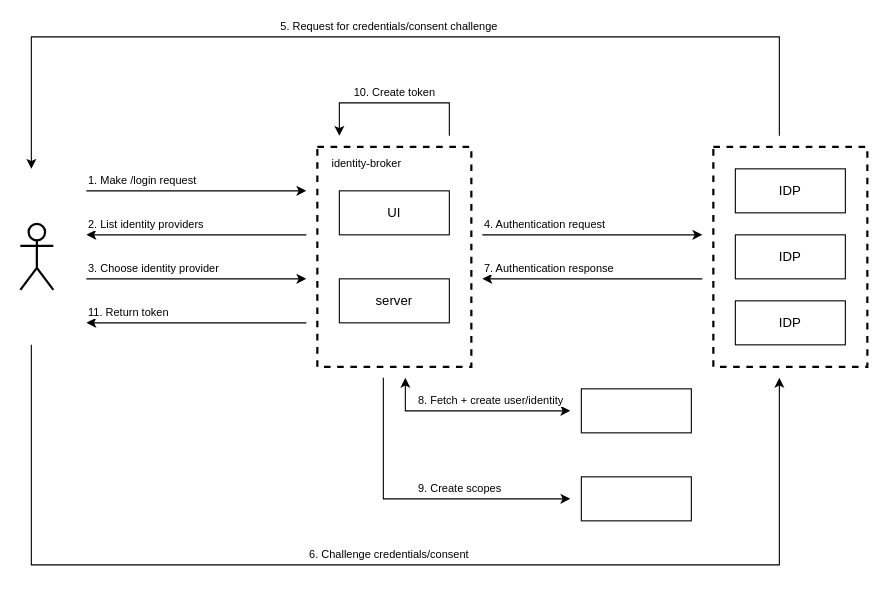
This 887x593 diagram has some shape labels left out. Here are the shapes that lost their labels. From the top down, the centre of each, then its label:
At [36,256]: "user".
At [635,410]: "AuthN".
At [635,498]: "AuthZ".
